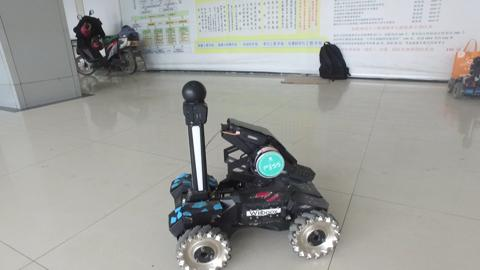bag: (316, 39, 352, 83), (450, 36, 479, 78)
chariot: (166, 79, 342, 270), (444, 52, 480, 103)
